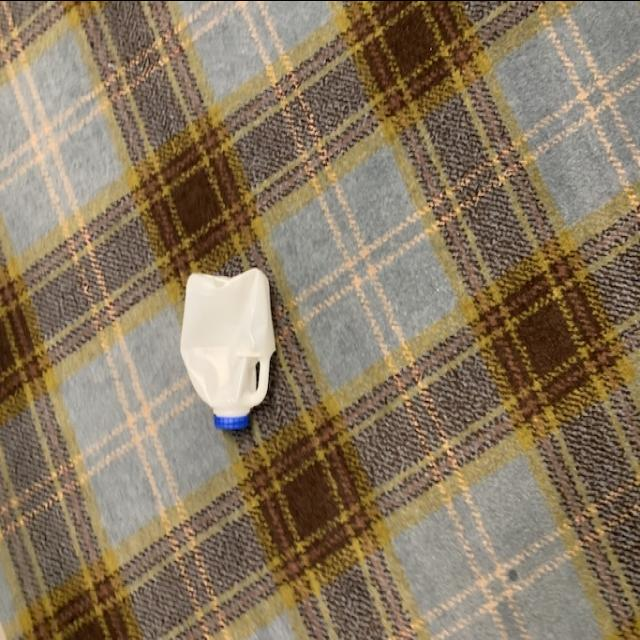litter: (175, 264, 279, 430)
